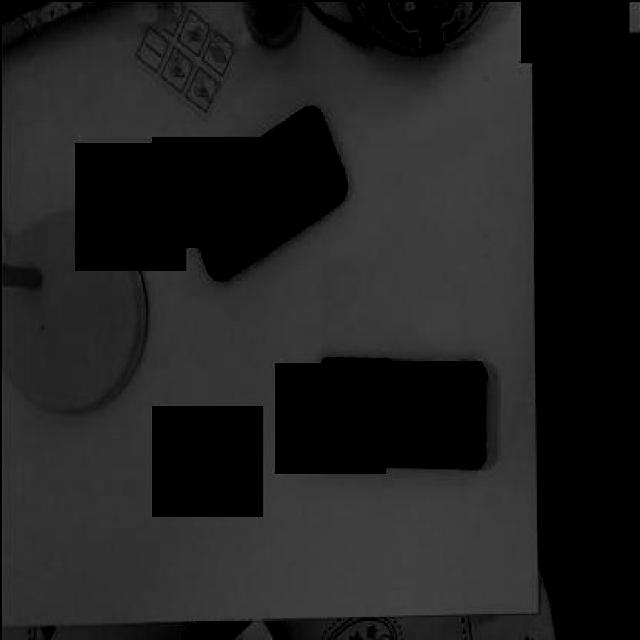fake: (181, 106, 347, 282), (316, 352, 489, 472)
